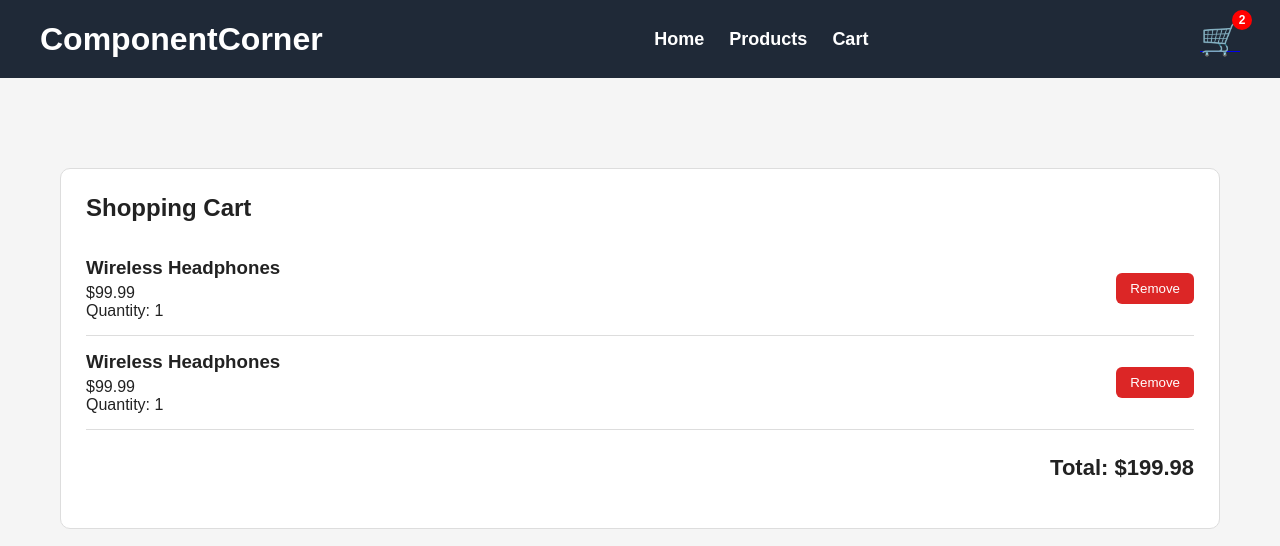
Scenario: App cart state and persistence › removes only one occurrence of a repeated product and saves the result
Expected: the heading "Total: $199.98" is shown, [1050, 455, 1194, 480]
Click the 1st button "Remove": (1155, 288) [1116, 273, 1194, 304]
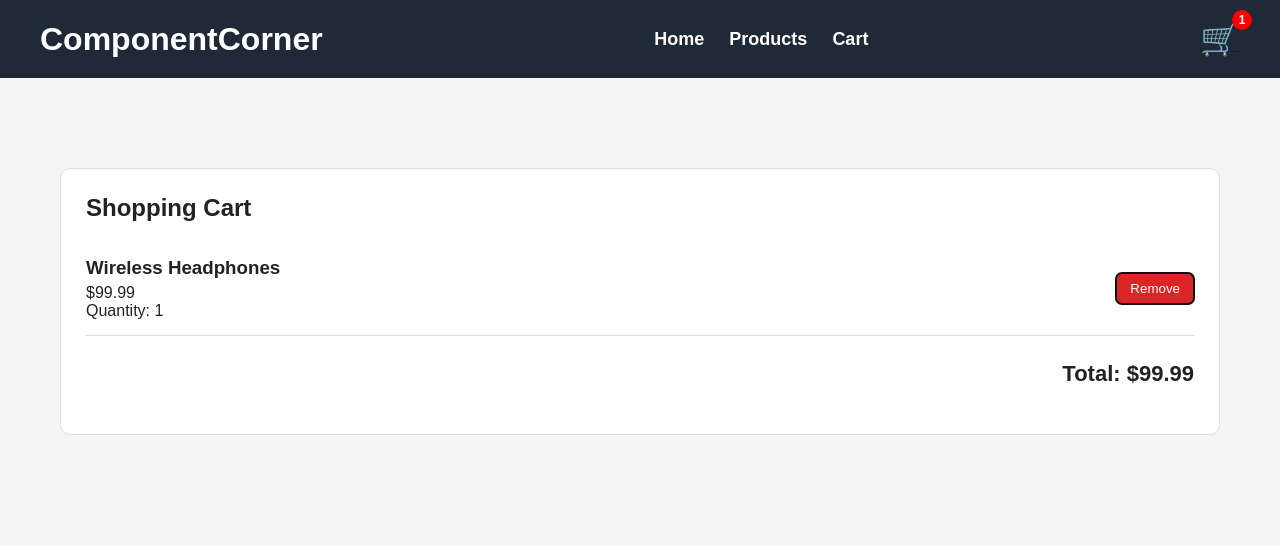
Expected: the number of headings "Wireless Headphones" is 1, [86, 257, 280, 279]
Now the heading "Total: $99.99" is shown, box [1062, 361, 1194, 386]
Click the button "Remove": (1155, 288) [1116, 273, 1194, 304]
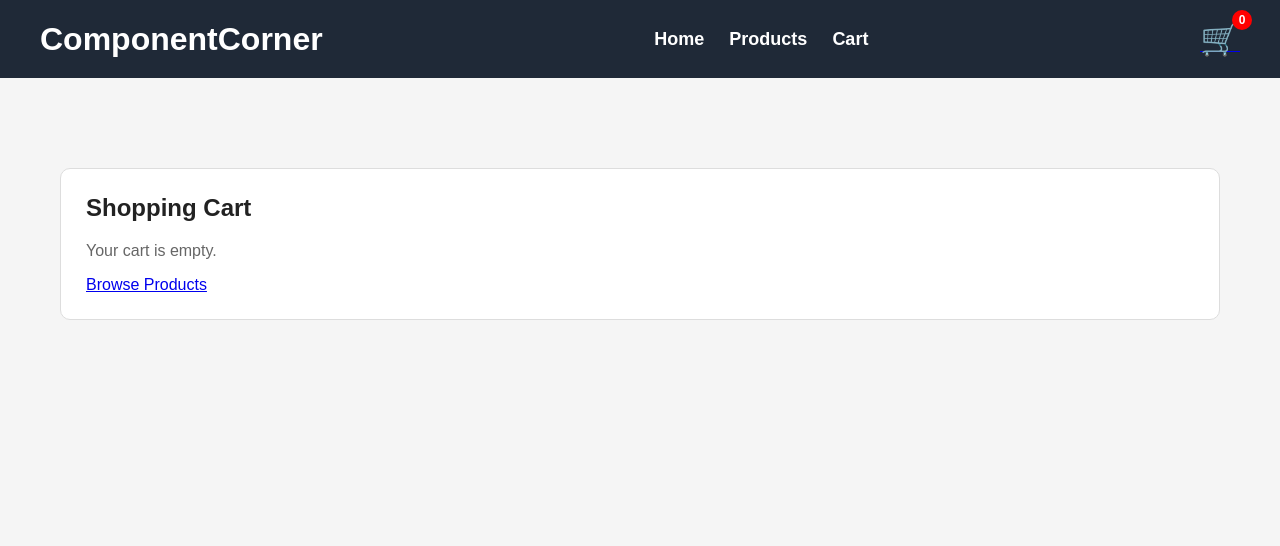
Now the text "Your cart is empty." is shown, box [86, 242, 217, 259]
